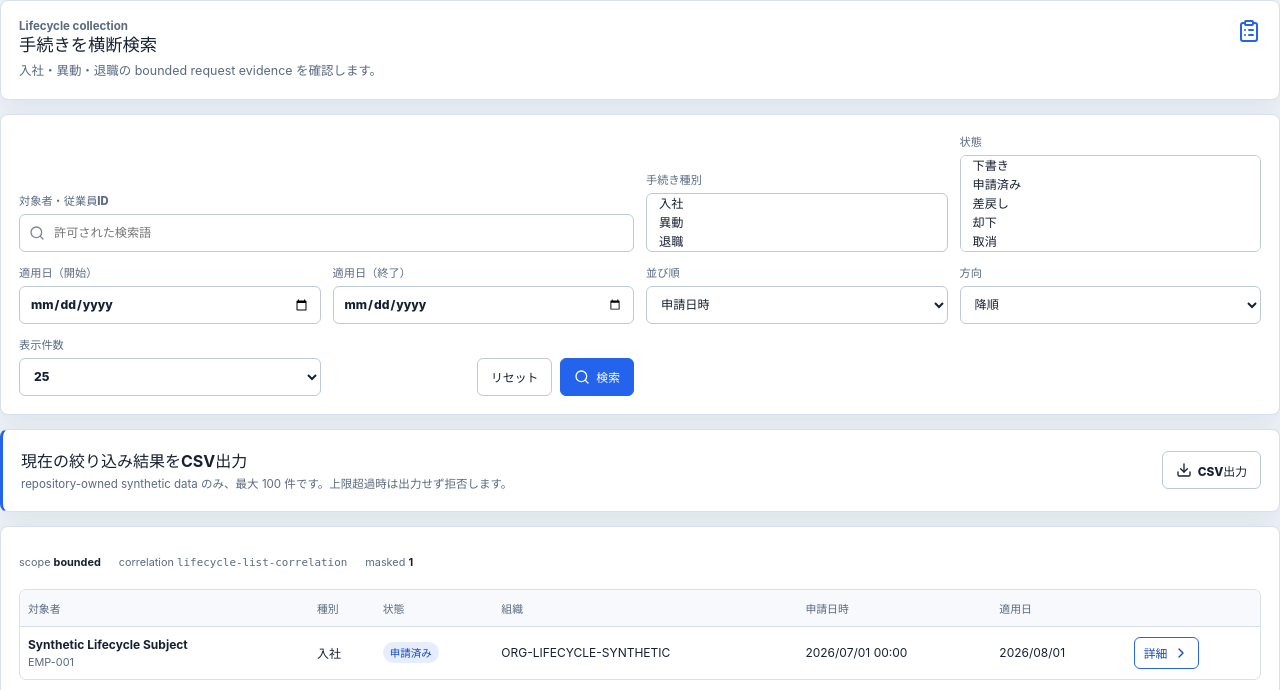
lifecycle list screen › shows the bounded denial reason and correlation without downloading
Expected: the text "Synthetic Lifecycle Subject" is shown, [28,637,188,652]
Click the button "CSV出力" at {"x": 1211, "y": 470}, box [1162,451,1261,489]
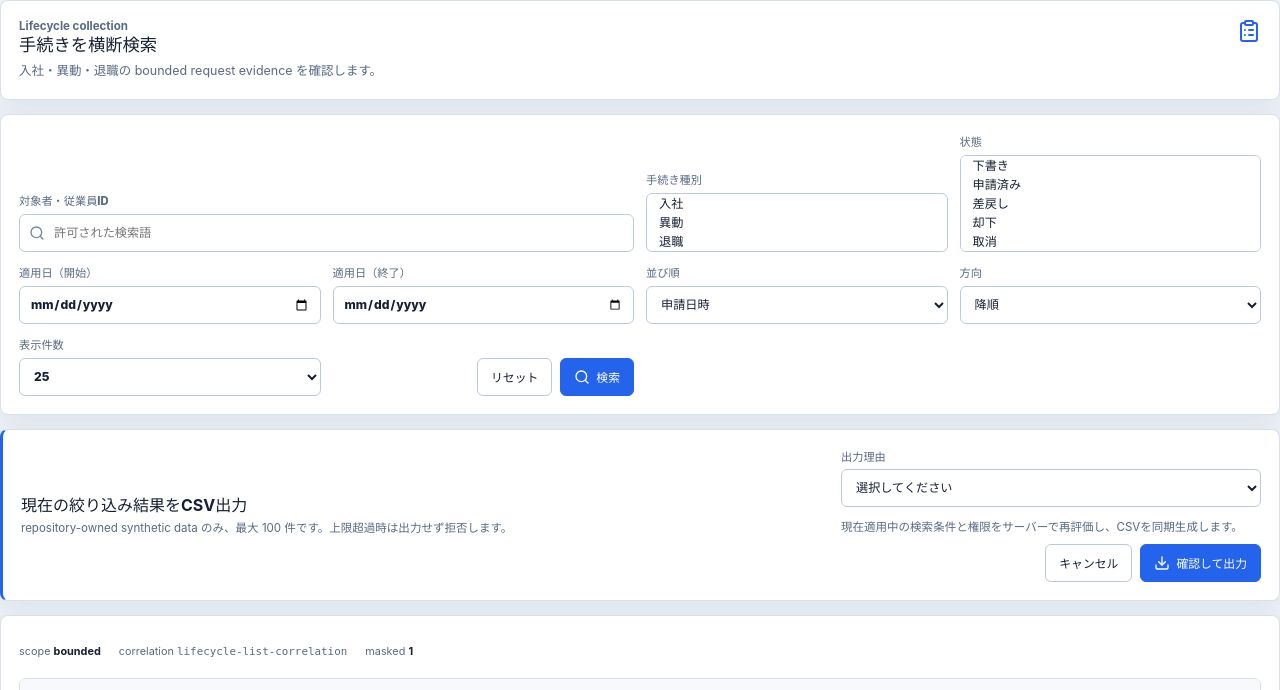
Select "UAT照合" in the dropdown labelled "出力理由" at {"x": 1051, "y": 488}, box [841,469,1261,507]
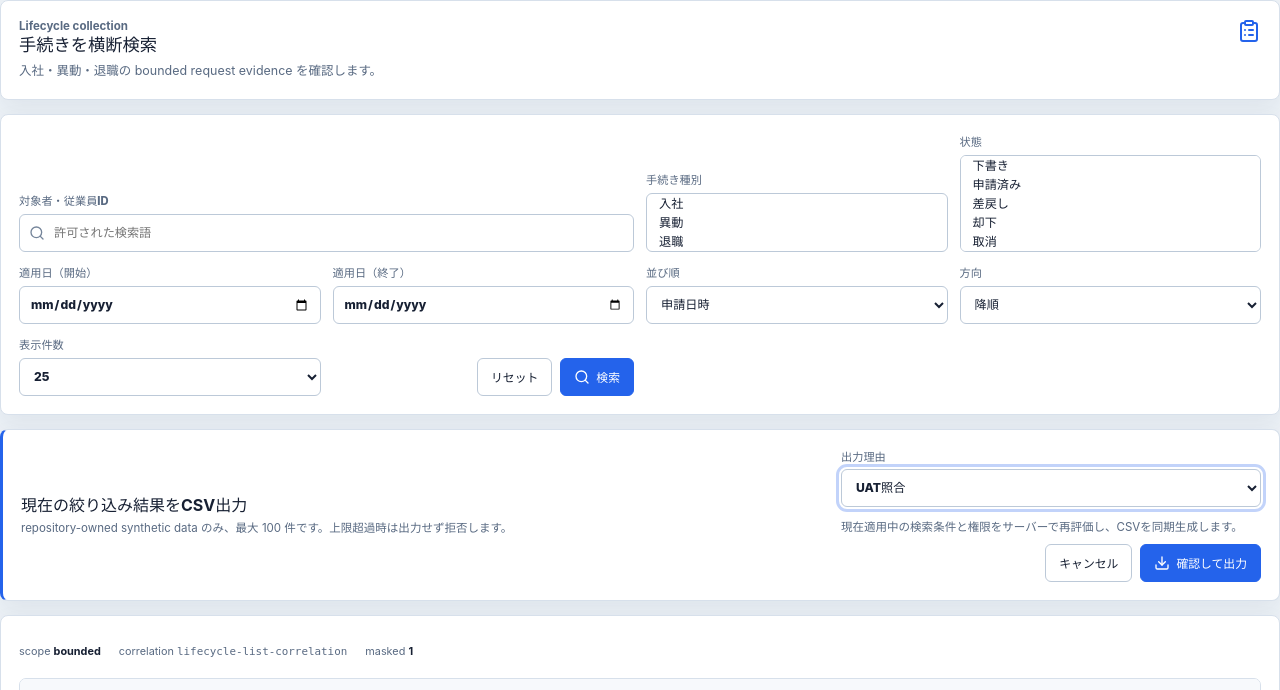
Click the button "確認して出力" at {"x": 1201, "y": 563}, box [1140,544,1261,582]
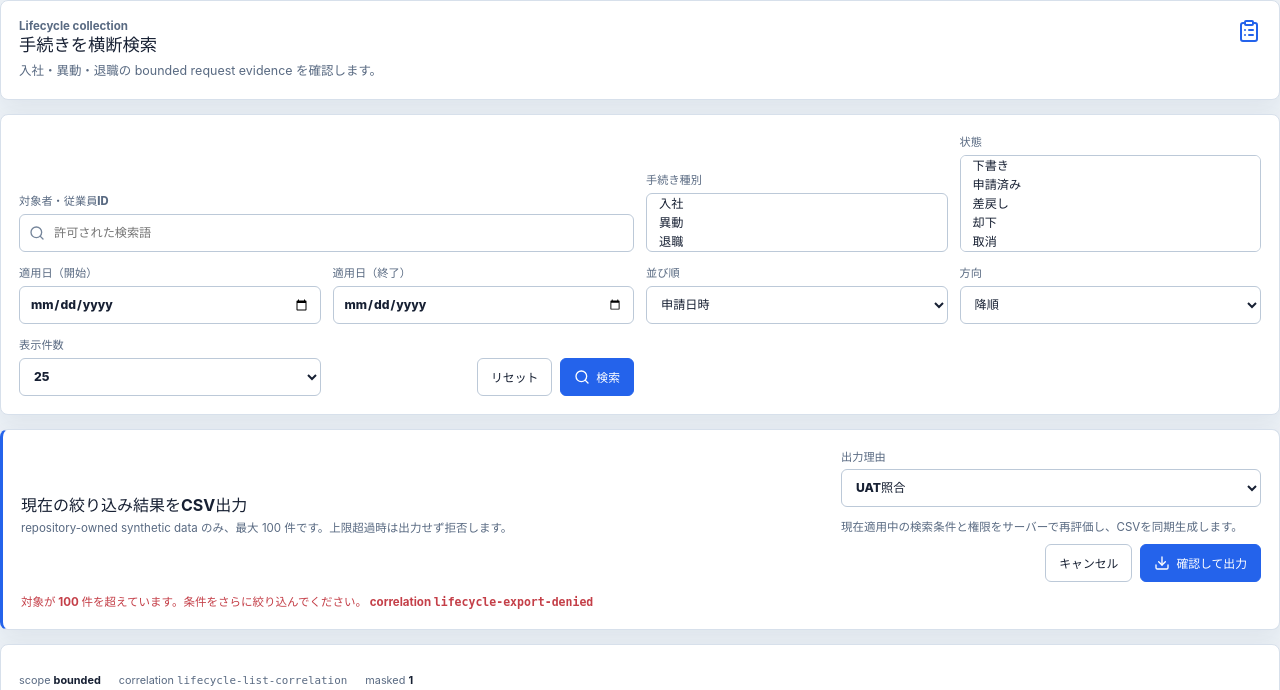
Expected: the text "対象が 100 件を超えています。条件をさらに絞り込んでください。 correlation lifecycle-export-denied" is shown, [21,595,593,609]
Expected: the text "lifecycle-export-denied" is shown, [434,595,593,609]
